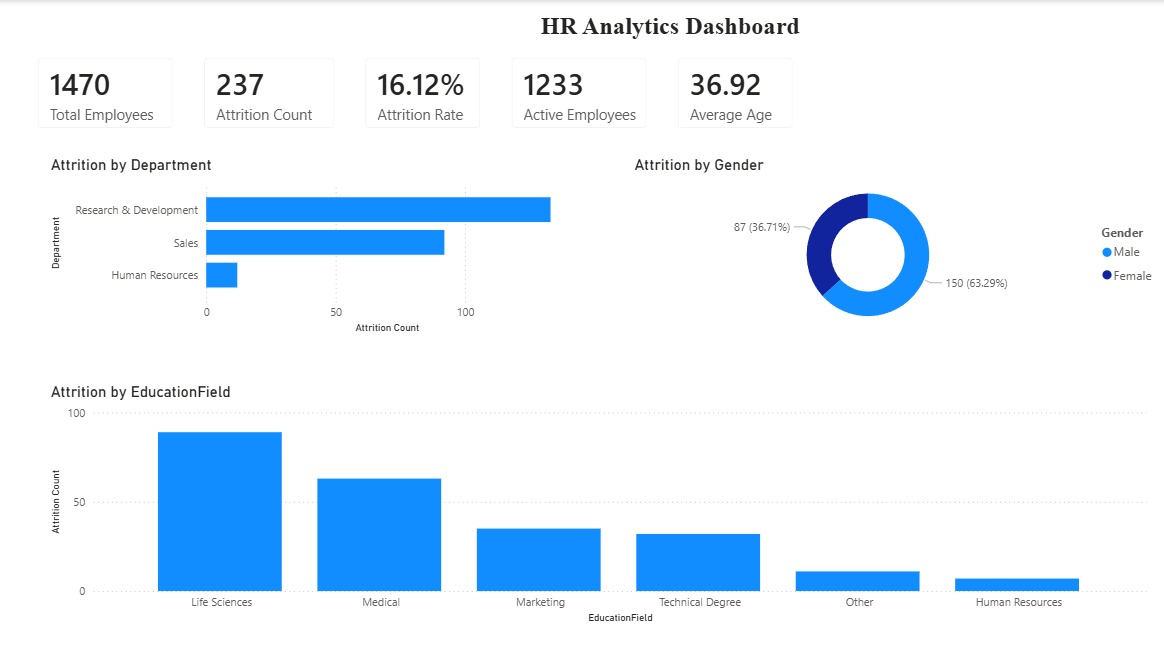

The page's visual inventory and layout, read from the dashboard file:
{"tool":"powerbi","page":{"name":"Overview","canvas":[1280,720],"ordinal":0},"visuals":[{"type":"cardVisual","fields":{"Data":["hr_employee_attrition.Total Employees"]},"box":[24.7,46.7,182.5,111.1],"z":0},{"type":"cardVisual","fields":{"Data":["hr_employee_attrition.Attrition Count"]},"box":[207.2,46.7,177,111.1],"z":1000},{"type":"cardVisual","fields":{"Data":["hr_employee_attrition.Attrition Rate"]},"box":[384.2,46.7,160.5,111.1],"z":2000},{"type":"cardVisual","fields":{"Data":["hr_employee_attrition.Active Employees"]},"box":[544.8,46.7,182.5,111.1],"z":3000},{"type":"cardVisual","fields":{"Data":["hr_employee_attrition.Average Age"]},"box":[727.3,46.7,160.5,111.1],"z":4000},{"type":"clusteredBarChart","title":"Attrition by Department","fields":{"Category":["hr_employee_attrition.Department"],"Y":["hr_employee_attrition.Attrition Count"]},"box":[50.8,170.2,588.7,200.3],"z":5000},{"type":"donutChart","title":"Attrition by Gender","fields":{"Category":["hr_employee_attrition.Gender"],"Y":["hr_employee_attrition.Attrition Count"]},"box":[691.6,170.2,588.7,200.3],"z":6000},{"type":"clusteredColumnChart","title":"Attrition by EducationField","fields":{"Category":["hr_employee_attrition.EducationField"],"Y":["hr_employee_attrition.Attrition Count"]},"box":[50.8,419.9,1213,269],"z":7000},{"type":"textbox","box":[588.7,8.2,319.7,48],"z":8000}]}

Visuals, with their boxes in screenshot pixels (x1, y1, x2, y2), scaled from the page's 1280x720 canvas onto the 1164x654 screenshot:
cardVisual - hr_employee_attrition.Total Employees: 22,42,188,143
cardVisual - hr_employee_attrition.Attrition Count: 188,42,349,143
cardVisual - hr_employee_attrition.Attrition Rate: 349,42,495,143
cardVisual - hr_employee_attrition.Active Employees: 495,42,661,143
cardVisual - hr_employee_attrition.Average Age: 661,42,807,143
"Attrition by Department" clusteredBarChart: 46,155,582,337
"Attrition by Gender" donutChart: 629,155,1163,337
"Attrition by EducationField" clusteredColumnChart: 46,381,1149,626
textbox: 535,7,826,51
